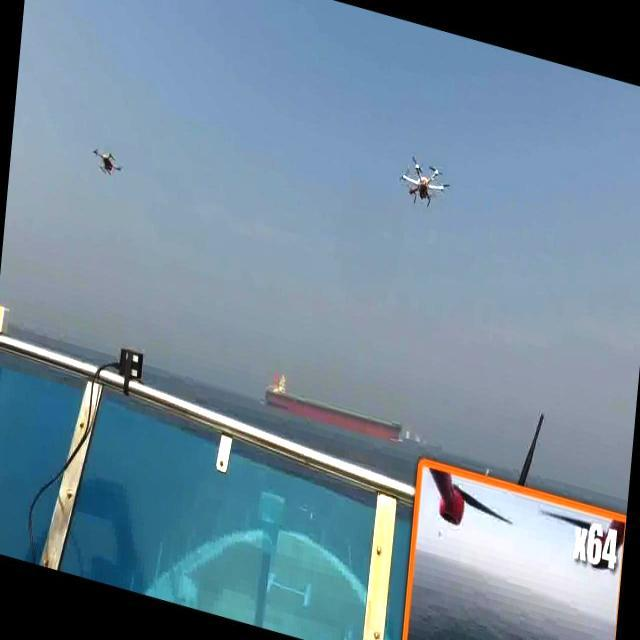drone: (394, 150, 452, 218), (89, 140, 125, 183)
